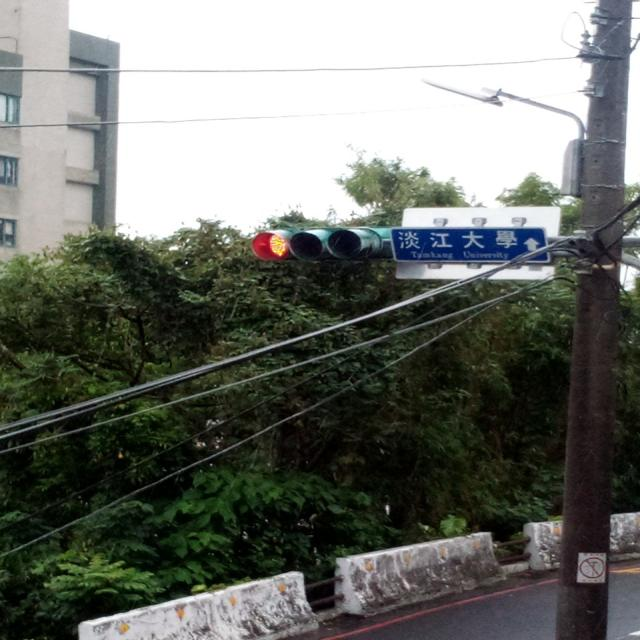red light: (250, 227, 381, 266)
